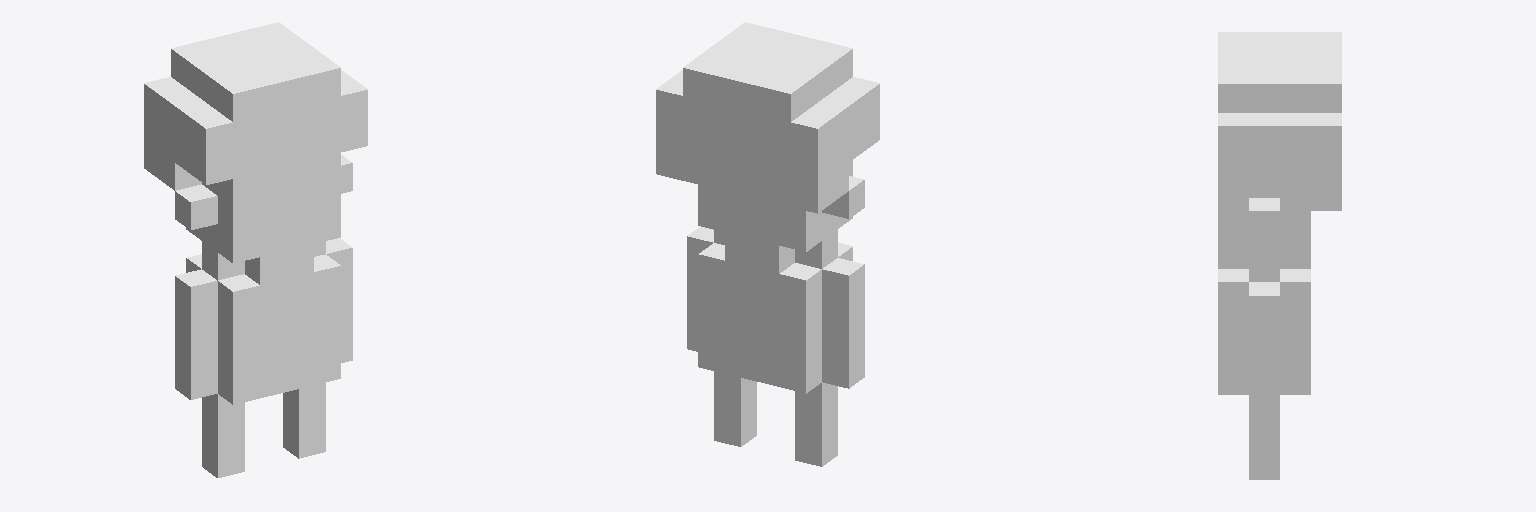
The model's file is spec1.obj.
3 views of the same model, side by side, from view 1: azimuth 30°, elevation 25°; view 2: azimuth 150°, elevation 25°; view 3: azimuth 270°, elevation 25° (orthographic).
Parts seen in each view (by area): view 1: object 1; view 2: object 1; view 3: object 1.
Boxes of the visible parts, box(x1,y1,x2,y2) form: object 1: box(144, 22, 367, 477); object 1: box(656, 22, 879, 466); object 1: box(1218, 32, 1341, 479).
Bounding box in the file's own units: 0.6 × 1.4 × 0.4.